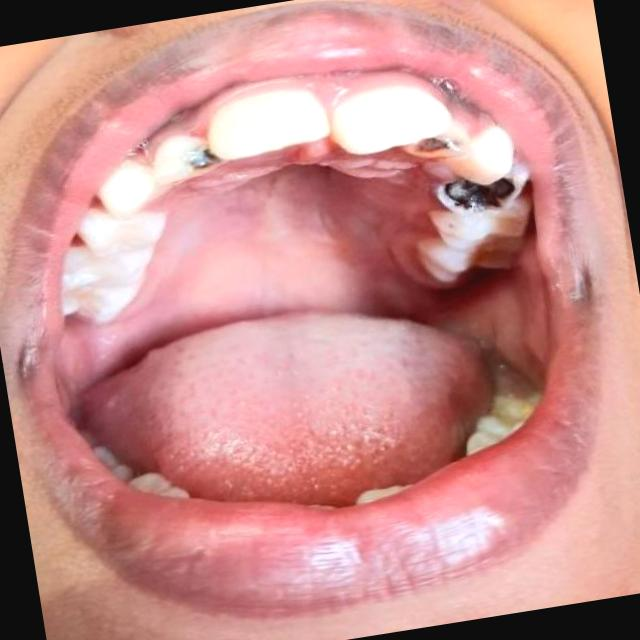caries: (436, 157, 530, 223), (148, 126, 220, 185), (408, 118, 472, 170)
